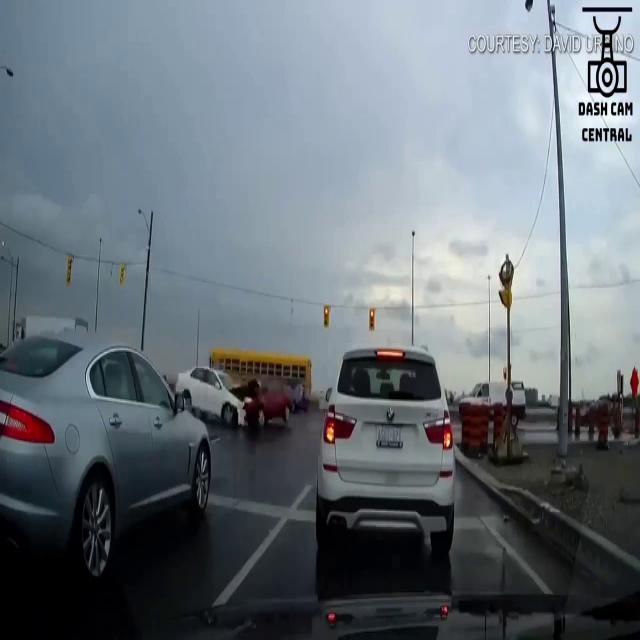accident: (175, 362, 293, 428)
